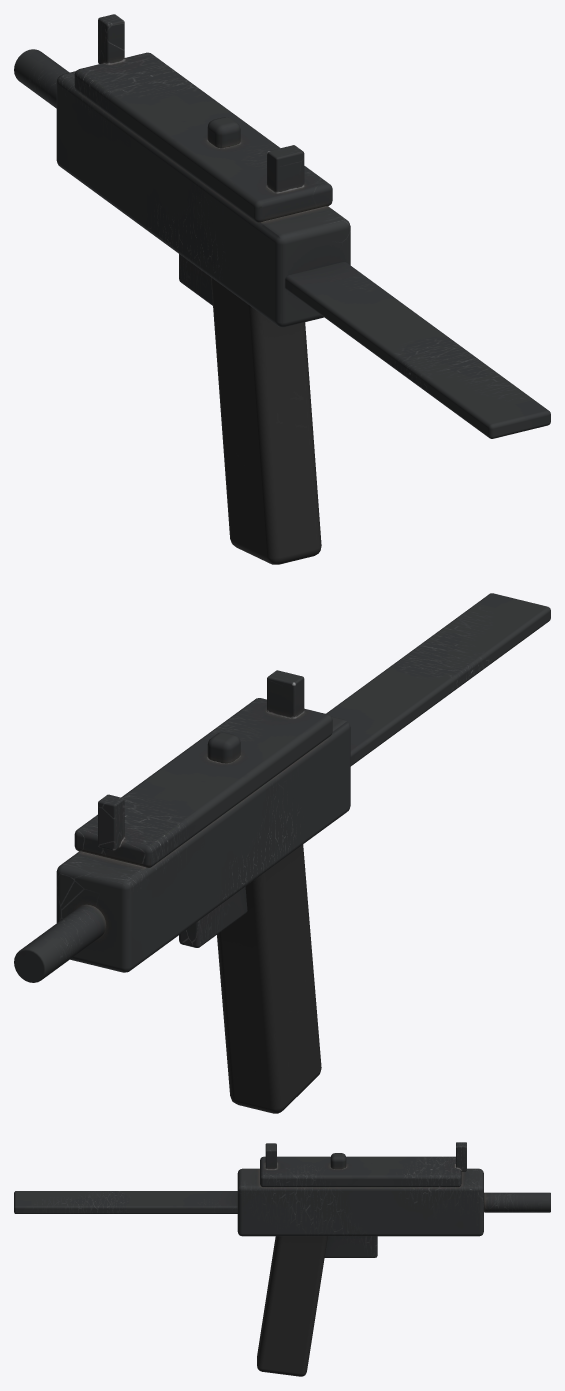
Rendered from mini_uzi.gltf.
3 views of the same model, one above another, from view 1: azimuth 30°, elevation 25°; view 2: azimuth 150°, elevation 25°; view 3: azimuth 270°, elevation 25° (orthographic). The views are drawn at different scales.
Parts seen in each view (by area): view 1: Frame, Mag_body, Stock; view 2: Frame, Mag_body, Stock; view 3: Frame, Mag_body, Stock.
Boxes of the visible parts, left/top/right/bottom form: Frame: left=14, top=14, right=350, bottom=327; Mag_body: left=211, top=277, right=321, bottom=564; Stock: left=285, top=262, right=550, bottom=438; Frame: left=14, top=670, right=350, bottom=982; Mag_body: left=217, top=844, right=321, bottom=1113; Stock: left=326, top=593, right=550, bottom=766; Frame: left=237, top=1142, right=550, bottom=1257; Mag_body: left=257, top=1236, right=327, bottom=1376; Stock: left=14, top=1191, right=237, bottom=1213.
Bounding box in the file's own units: 0.044 × 0.2242 × 0.48.
Materials: 3 (3 with a texture image).
